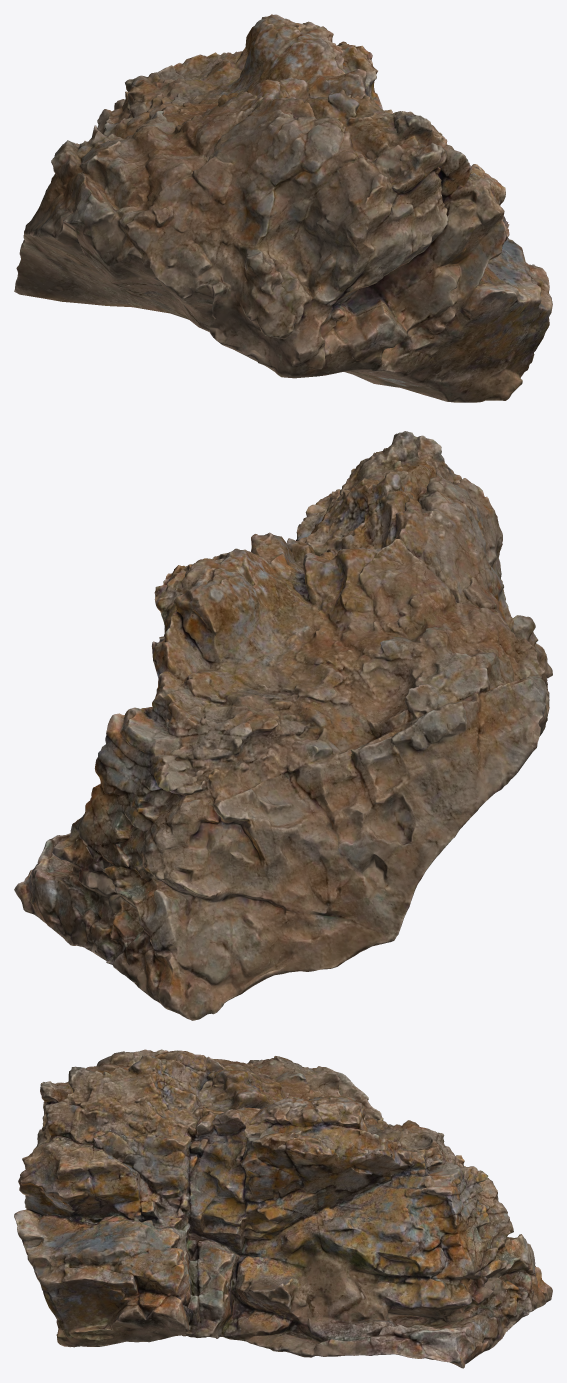
The model's file is boulder_01.glb.
The picture shows the model from 3 angles, top to bottom: view 1: azimuth 30°, elevation 25°; view 2: azimuth 150°, elevation 25°; view 3: azimuth 270°, elevation 25°; orthographic projection. The views are drawn at different scales.
Parts seen in each view (by area): view 1: boulder_01; view 2: boulder_01; view 3: boulder_01.
Boxes of the visible parts, left/top/right/bottom form: boulder_01: left=14, top=14, right=552, bottom=402; boulder_01: left=14, top=431, right=552, bottom=1020; boulder_01: left=14, top=1049, right=552, bottom=1368.
Size of the model in its own units: 1.27 by 1 by 1.83.
Materials: 1 (1 with a texture image).
